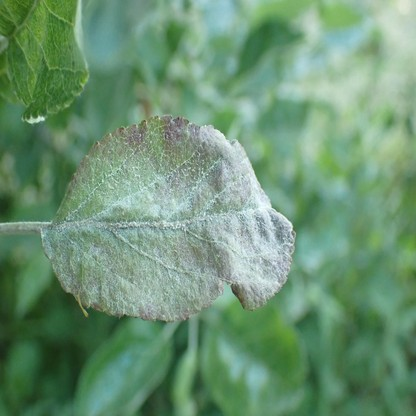powder: (43, 117, 296, 322)
